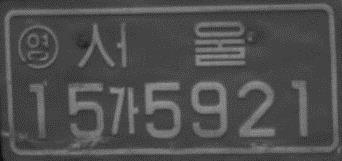1: (23, 80, 52, 142), (287, 76, 314, 138)
2: (236, 78, 278, 141)
5: (64, 80, 106, 142), (142, 79, 182, 140)
9: (190, 80, 229, 140)
가: (107, 84, 140, 137)
서울_D: (75, 17, 248, 71)
영: (16, 23, 60, 69)
